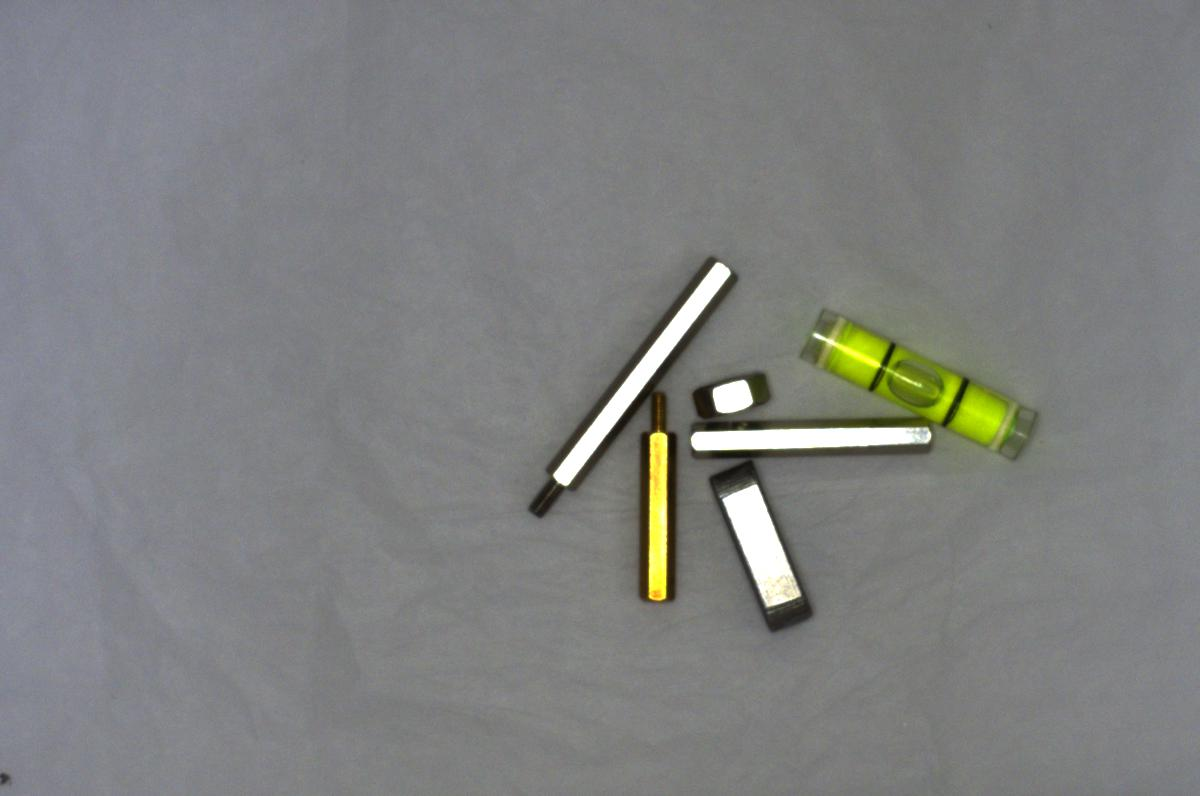Double hexagonal column: (682, 415, 939, 460)
Hexagon nut: (683, 362, 778, 419)
Hexagon pillar: (637, 390, 685, 613)
Hexagonal steel column: (520, 254, 739, 518)
Horizontal bubble: (784, 300, 1050, 468)
Keybar: (696, 458, 821, 637)
